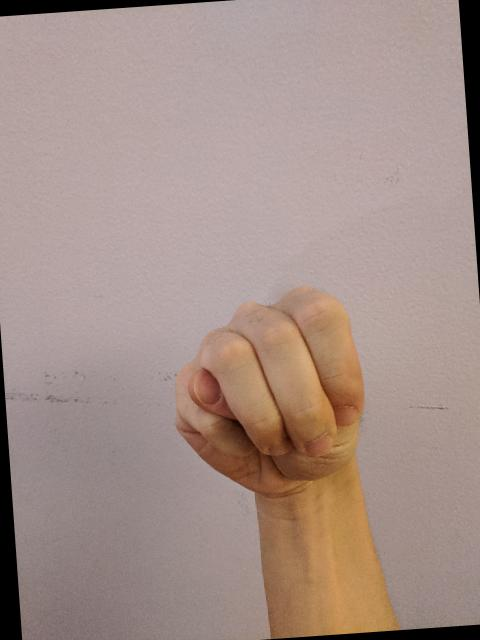M: (160, 276, 376, 504)
